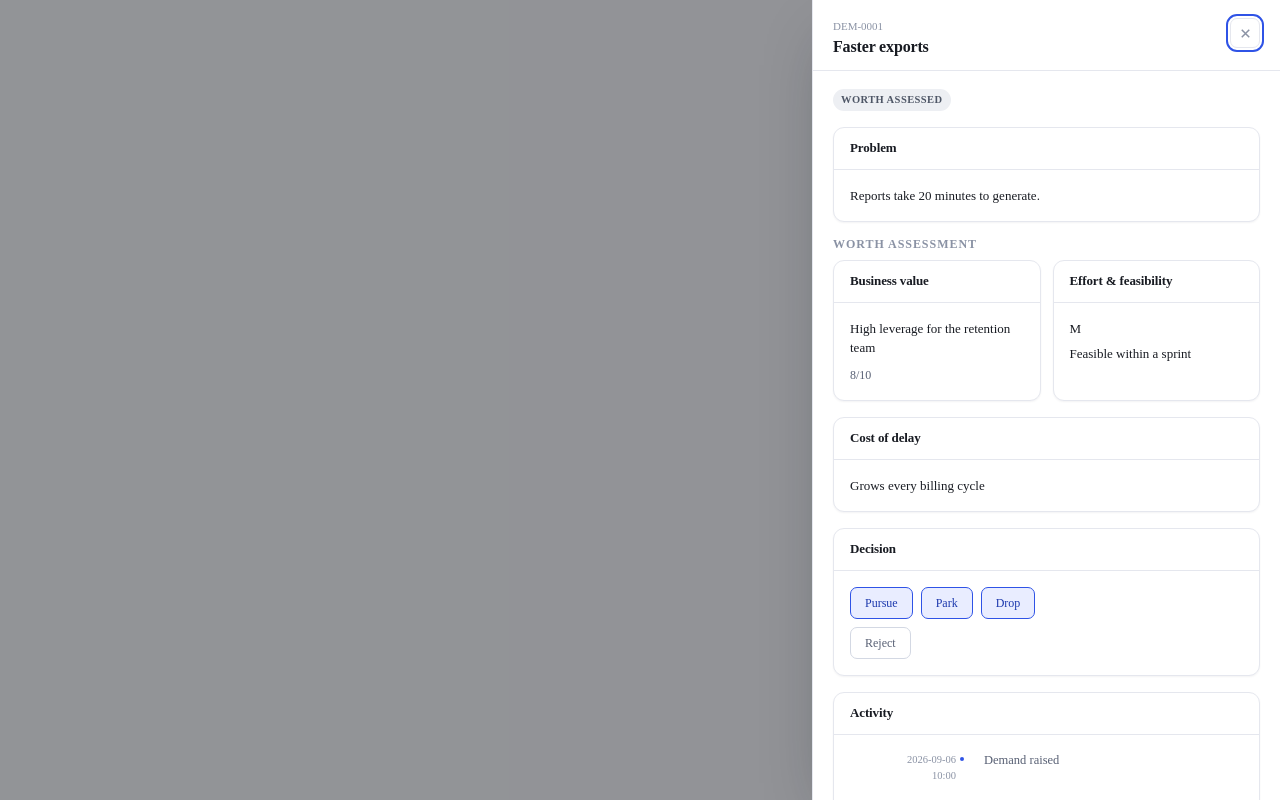
Scenario: a 409 segregation response from /decision (no justification) opens the override dialog
The width and height of the screenshot is (1280, 800).
What coordinates should you click on to do the following:
click the button "Pursue"
I would click on:
 (881, 603)
Its box is [850, 587, 913, 619].
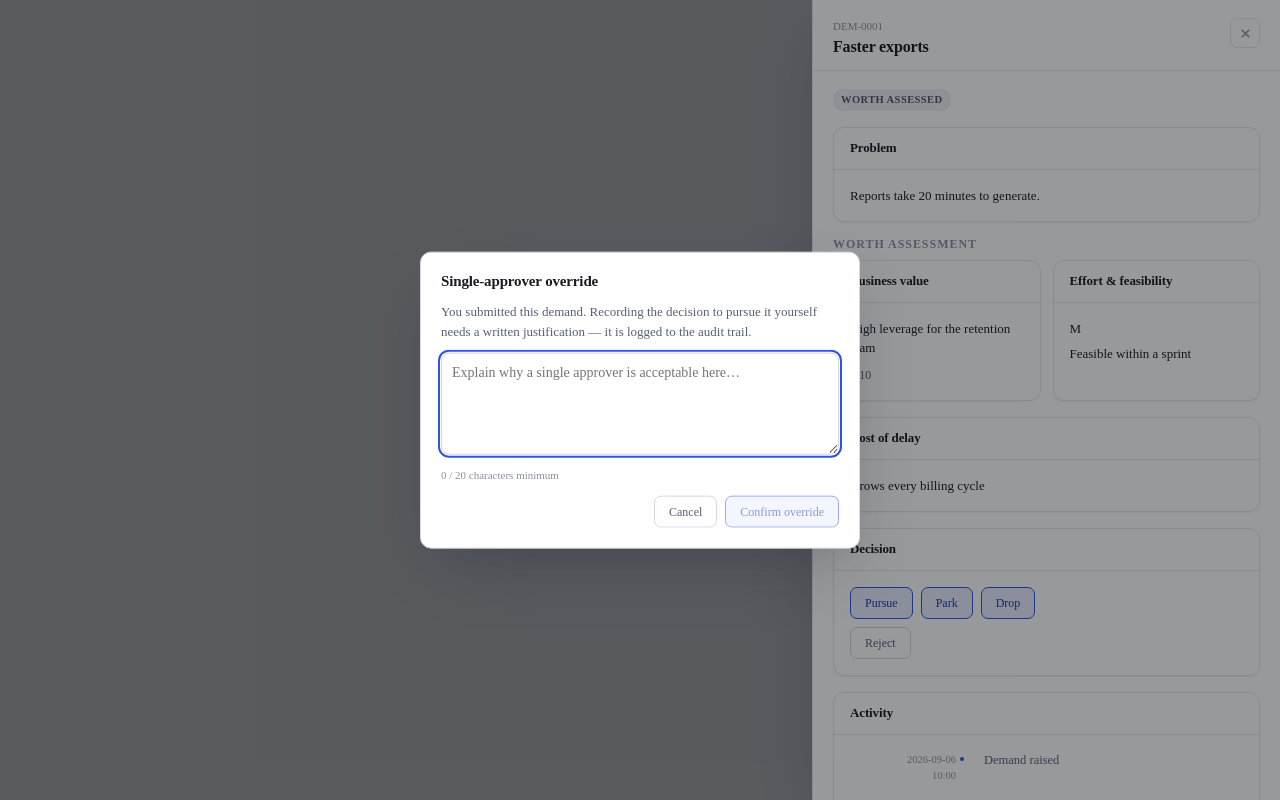
Expected: the text box named "Override justification" is shown, [441, 353, 839, 455]
